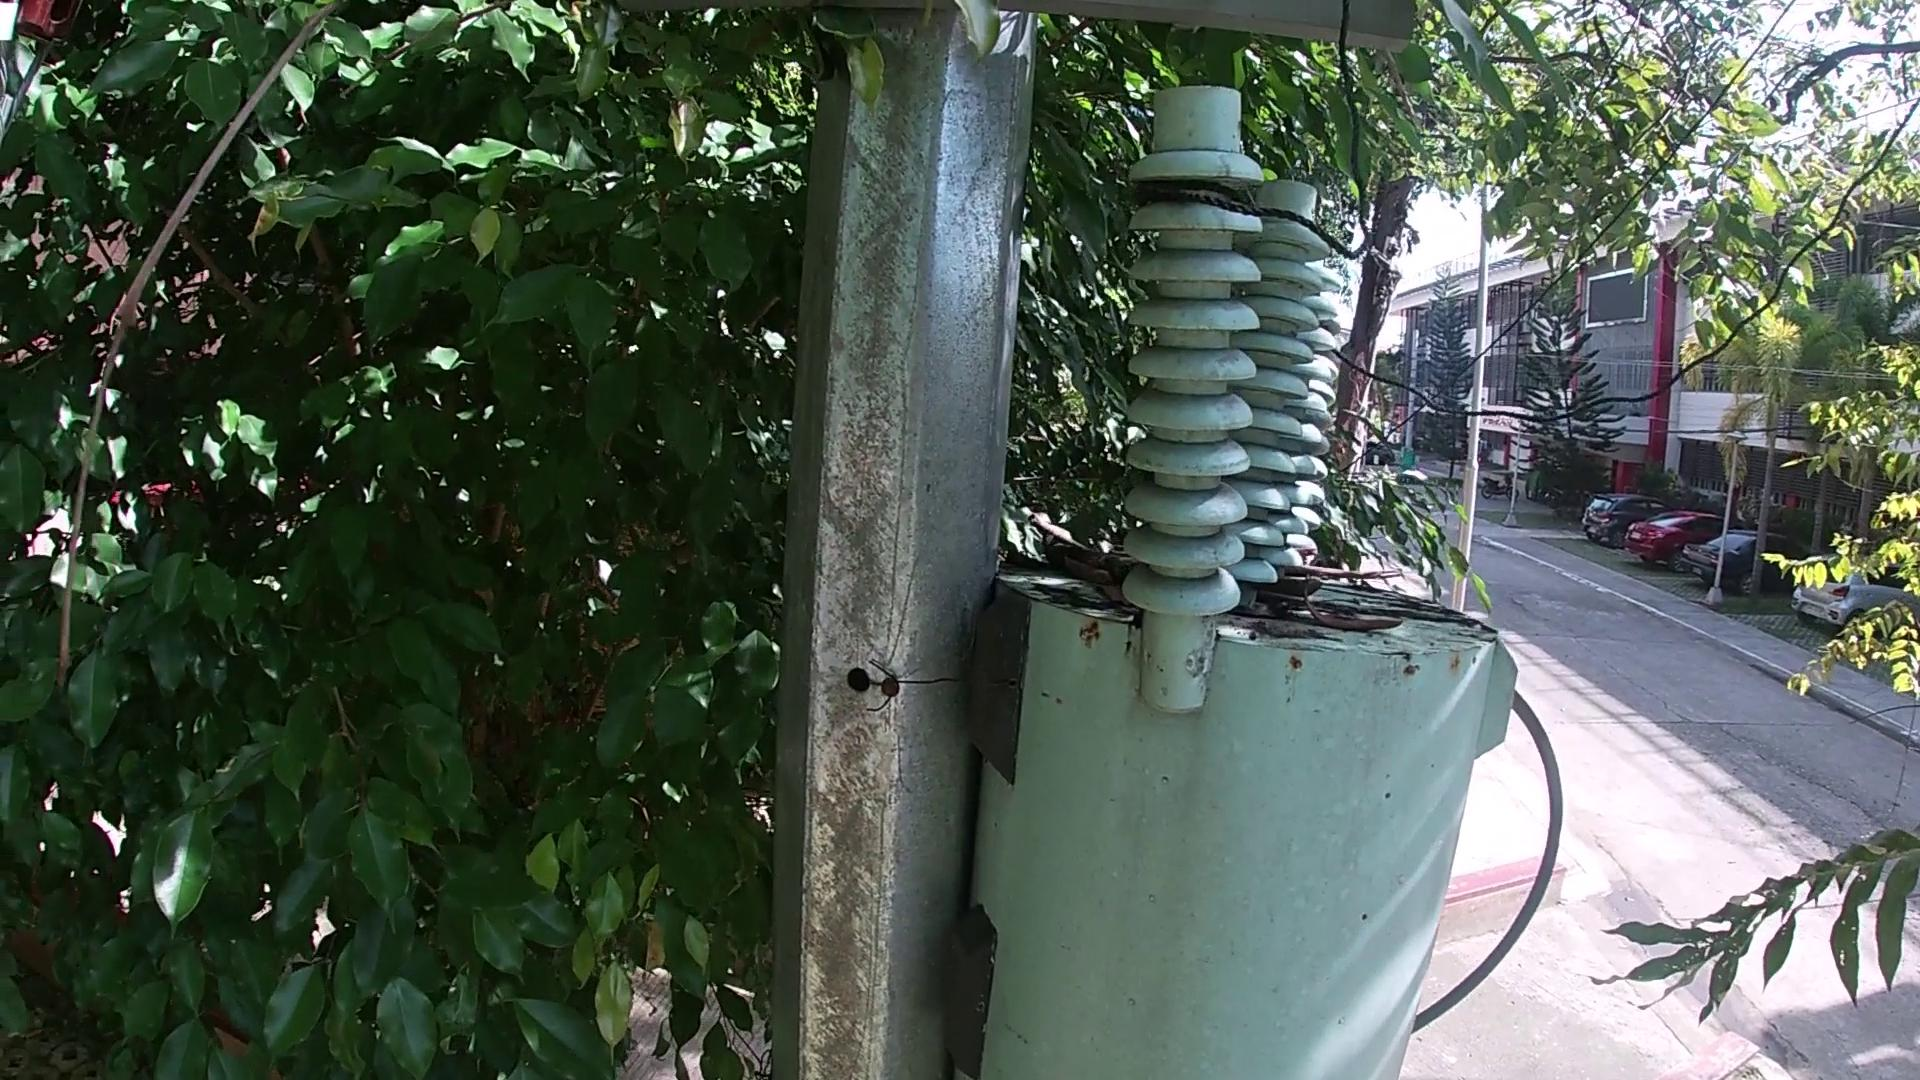mahogany fruit: (1294, 597, 1407, 630), (1237, 575, 1331, 597)
tree branch: (1284, 562, 1407, 583), (1033, 512, 1104, 546), (1042, 546, 1130, 570)
